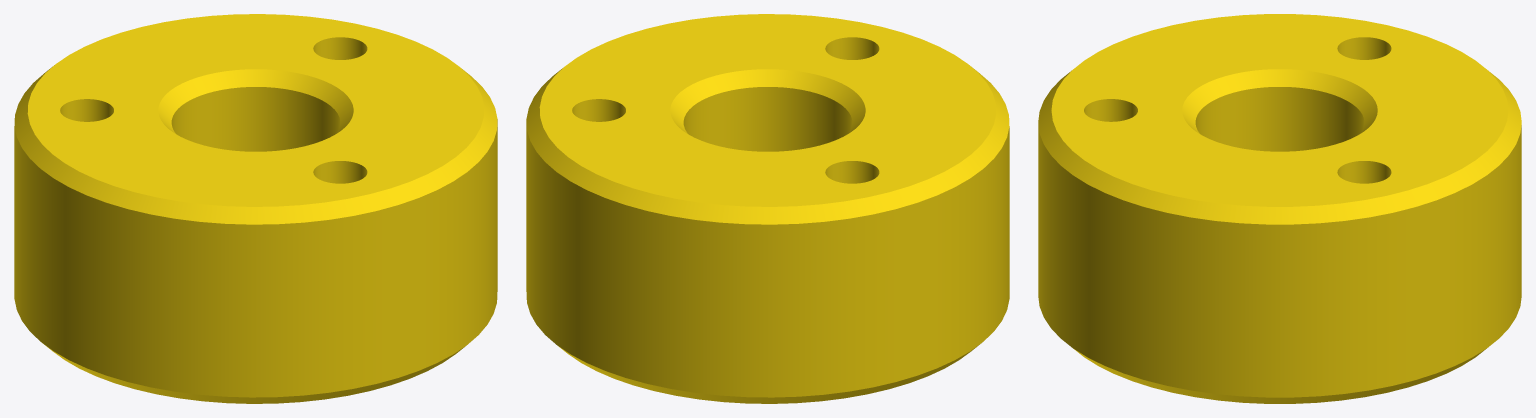
File: A26_W108_pinionOutside.gltf
The picture shows the model from 3 angles, left to right: view 1: azimuth 30°, elevation 25°; view 2: azimuth 150°, elevation 25°; view 3: azimuth 270°, elevation 25°; orthographic projection.
Visible parts, largest first — view 1: mesh5985, mesh5987, mesh5986, mesh5982, mesh5983, mesh5984, mesh5988, mesh5992, mesh5990; view 2: mesh5985, mesh5987, mesh5986, mesh5982, mesh5983, mesh5984, mesh5990, mesh5992, mesh5988; view 3: mesh5985, mesh5987, mesh5986, mesh5982, mesh5983, mesh5984, mesh5988, mesh5992, mesh5990.
Part boxes in pixels (<box>): mesh5985: <box>14,119,497,397</box>; mesh5987: <box>27,14,484,206</box>; mesh5986: <box>14,65,497,224</box>; mesh5982: <box>171,87,340,151</box>; mesh5983: <box>158,69,353,133</box>; mesh5984: <box>42,343,465,403</box>; mesh5988: <box>313,37,367,59</box>; mesh5992: <box>313,161,367,183</box>; mesh5990: <box>60,99,113,121</box>; mesh5985: <box>526,119,1009,397</box>; mesh5987: <box>539,14,996,206</box>; mesh5986: <box>526,65,1009,224</box>; mesh5982: <box>683,87,852,151</box>; mesh5983: <box>670,69,865,133</box>; mesh5984: <box>558,343,981,403</box>; mesh5990: <box>825,161,879,183</box>; mesh5992: <box>825,37,879,59</box>; mesh5988: <box>572,99,625,121</box>; mesh5985: <box>1038,125,1521,397</box>; mesh5987: <box>1051,14,1508,206</box>; mesh5986: <box>1038,70,1521,224</box>; mesh5982: <box>1195,87,1364,151</box>; mesh5983: <box>1182,69,1377,133</box>; mesh5984: <box>1073,348,1486,403</box>; mesh5988: <box>1337,161,1391,183</box>; mesh5992: <box>1084,99,1137,121</box>; mesh5990: <box>1337,37,1391,59</box>.
Size of the model in its own units: 0.0363 by 0.0163 by 0.0364.
